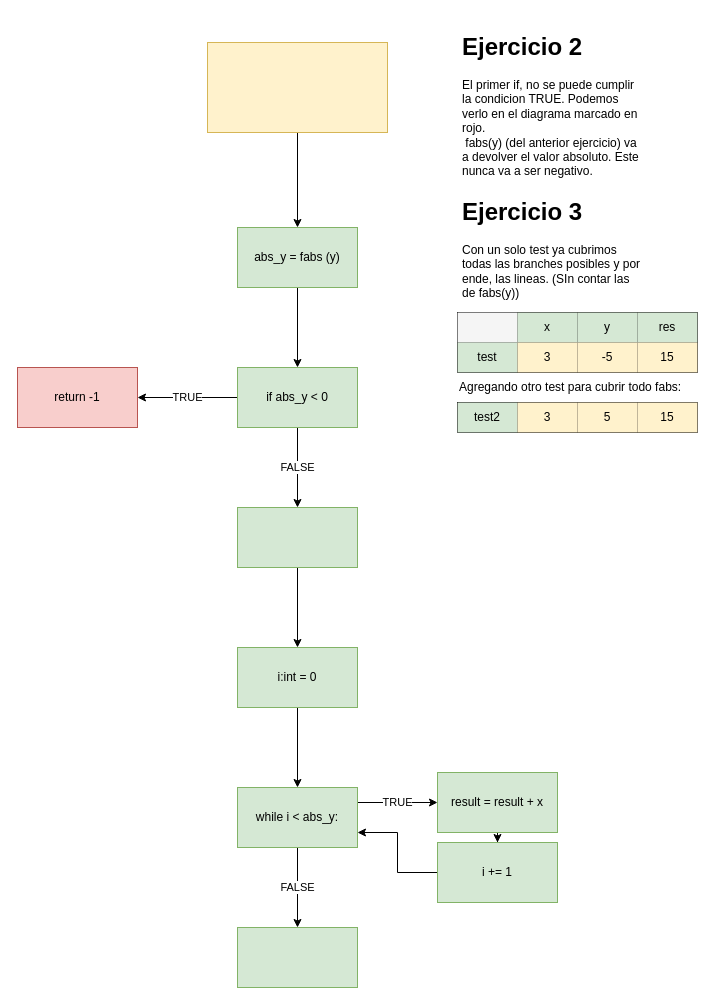
Image size: 725x1005. Some labels were removed from this diagram. The centre of each missing label's shape, as x and y in pixels:
"multByAbs( x:int, y:int ) -> int:" goes at point (297, 87).
"result:int = 0" goes at point (297, 537).
"return result" goes at point (297, 957).
